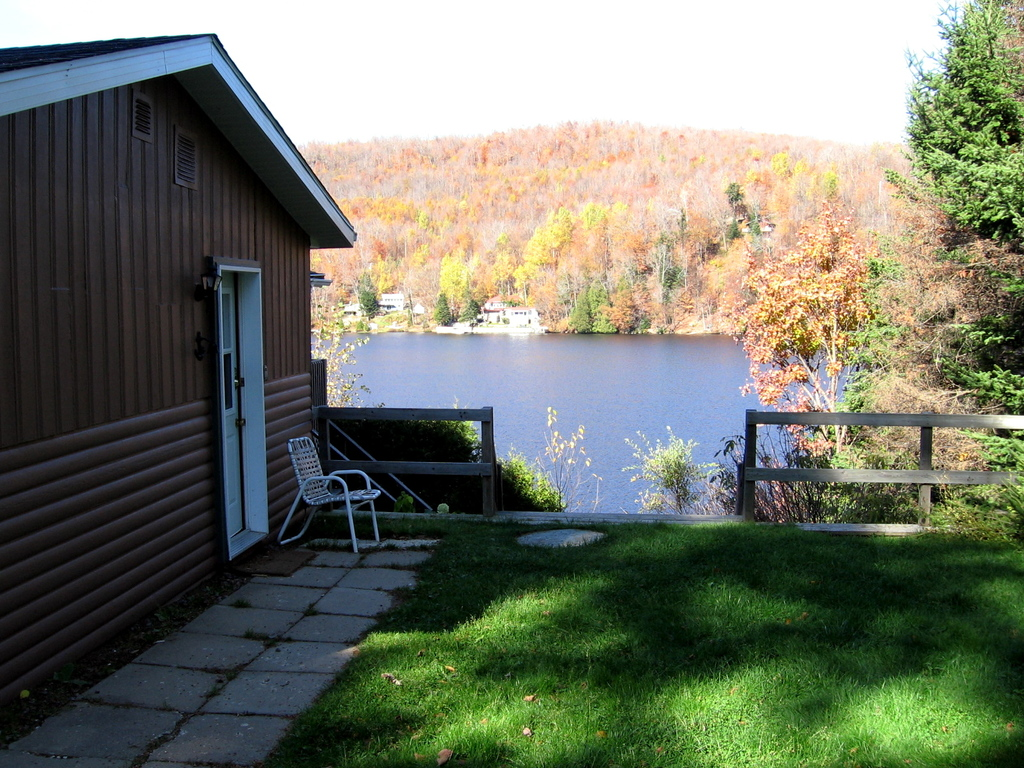door: (219, 293, 243, 530)
